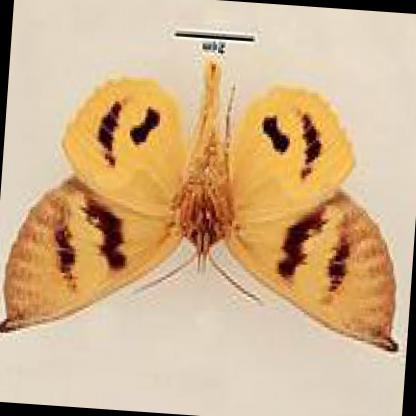fruit sucking moth: (0, 64, 397, 352)
